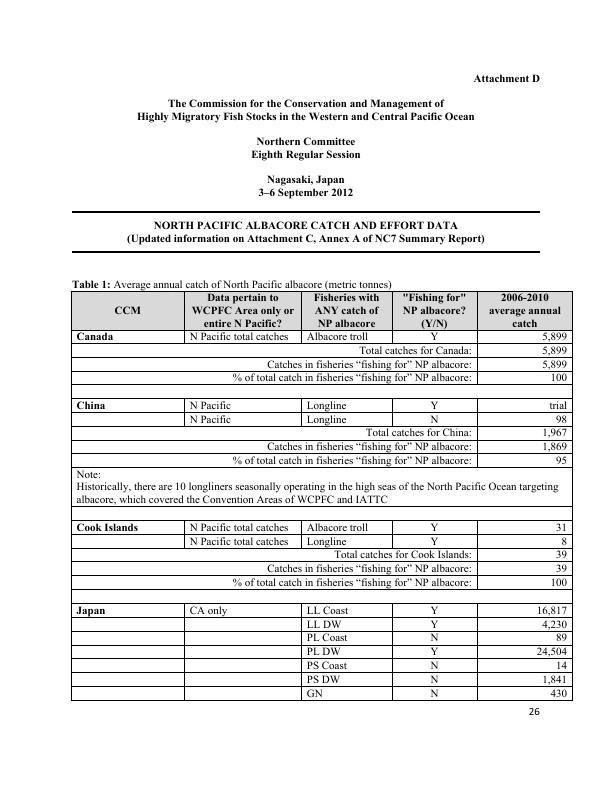table: (67, 289, 576, 706)
text: (126, 213, 486, 249), (132, 94, 482, 126), (70, 275, 394, 290), (249, 135, 366, 164), (258, 173, 355, 199)
